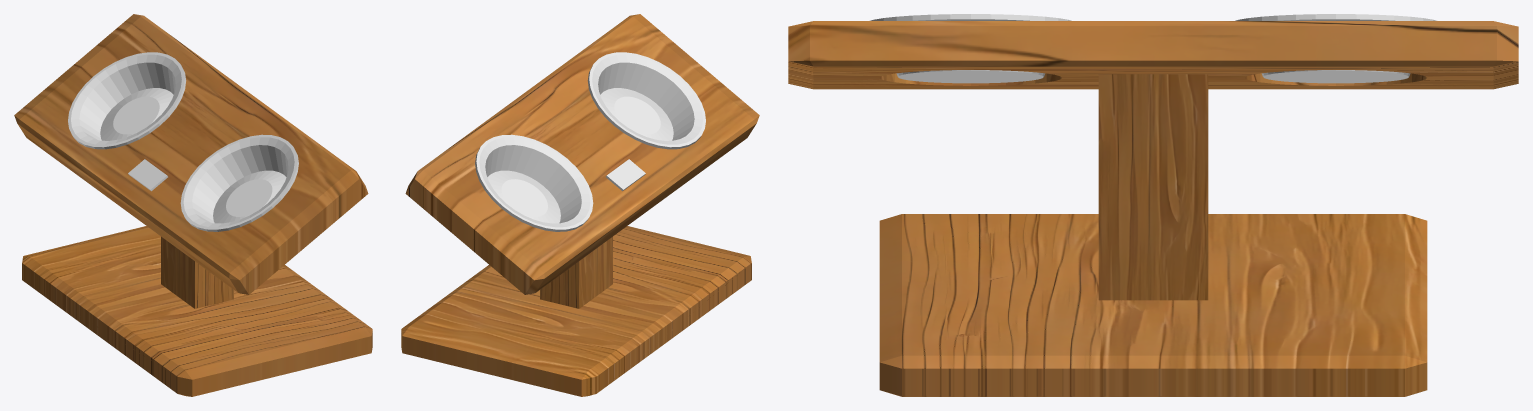
The model's file is PetBowlFBX.fbx.
The picture shows the model from 3 angles, left to right: view 1: azimuth 30°, elevation 25°; view 2: azimuth 150°, elevation 25°; view 3: azimuth 270°, elevation 25°; orthographic projection. The views are drawn at different scales.
Parts seen in each view (by area): view 1: Plano, Plano.001, Círculo.001, Círculo, Plano.002; view 2: Plano, Plano.001, Círculo, Círculo.001, Plano.002; view 3: Plano.001, Plano, Círculo, Círculo.001.
Part boxes in pixels (x1,y1,x2,y2): Plano: (14, 14, 368, 294); Plano.001: (22, 226, 372, 396); Círculo.001: (68, 52, 186, 149); Círculo: (180, 134, 298, 231); Plano.002: (128, 159, 167, 191); Plano: (405, 14, 759, 294); Plano.001: (401, 226, 751, 396); Círculo: (587, 52, 705, 149); Círculo.001: (475, 134, 593, 231); Plano.002: (606, 159, 645, 191); Plano.001: (879, 74, 1427, 396); Plano: (788, 21, 1518, 89); Círculo: (870, 14, 1071, 83); Círculo.001: (1235, 14, 1436, 83).
Size of the model in its own units: 400 by 415 by 800.
3 materials, 2 textured.
